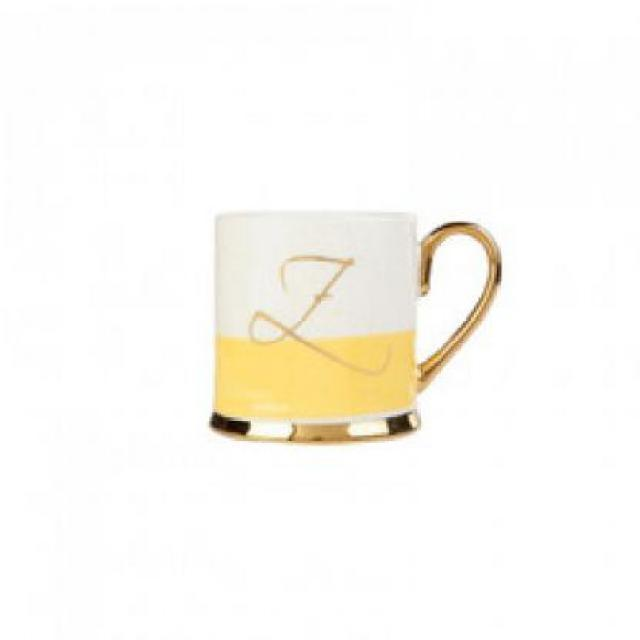taza: (210, 205, 504, 447)
